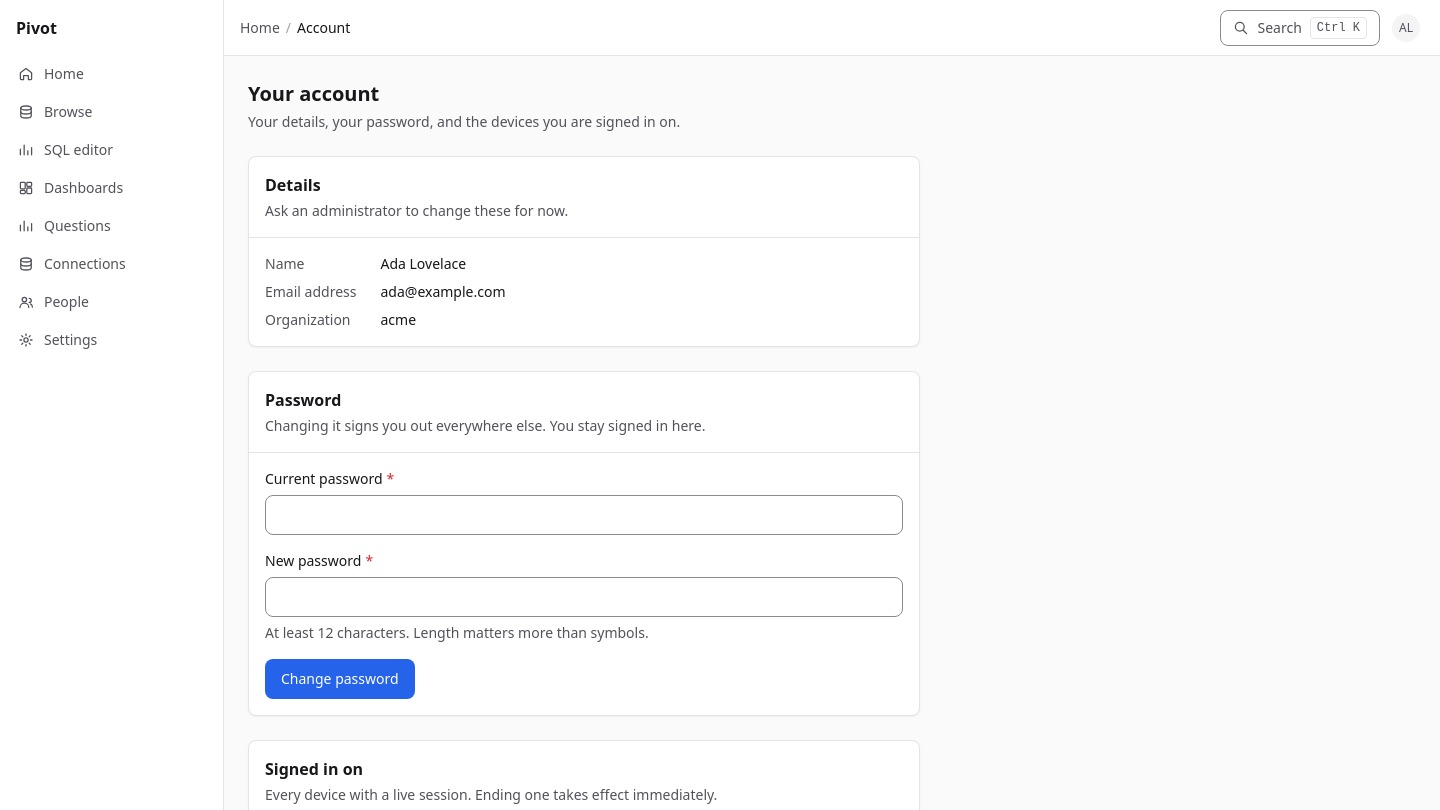
Test: changing your password › a password that is too short names the field
Type "current-password-here" into the password field labelled "Current password*" at (584,515), box top-left (265, 495), bottom-right (903, 535)
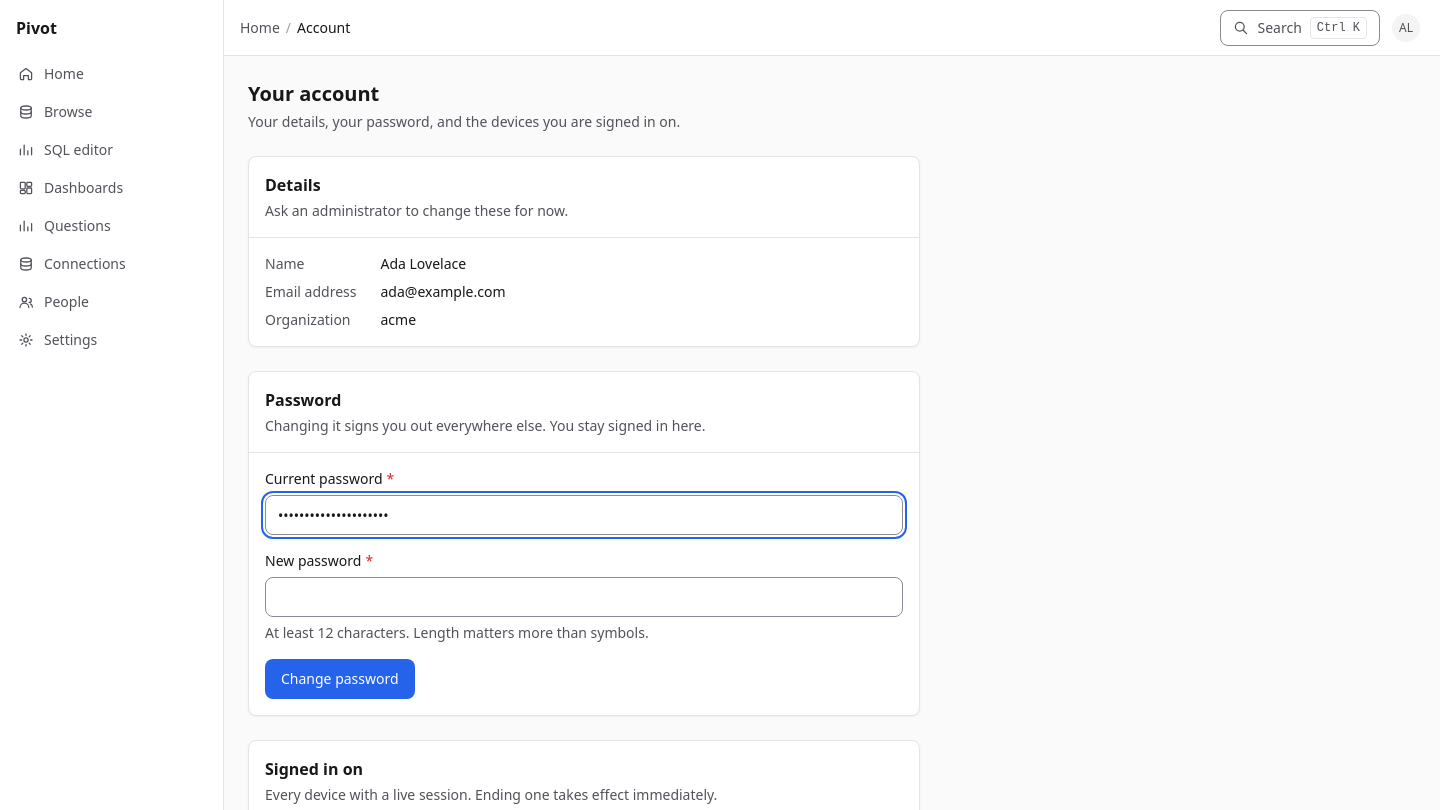
Type "short" into the password field labelled "New password*" at (584,597), box top-left (265, 577), bottom-right (903, 617)
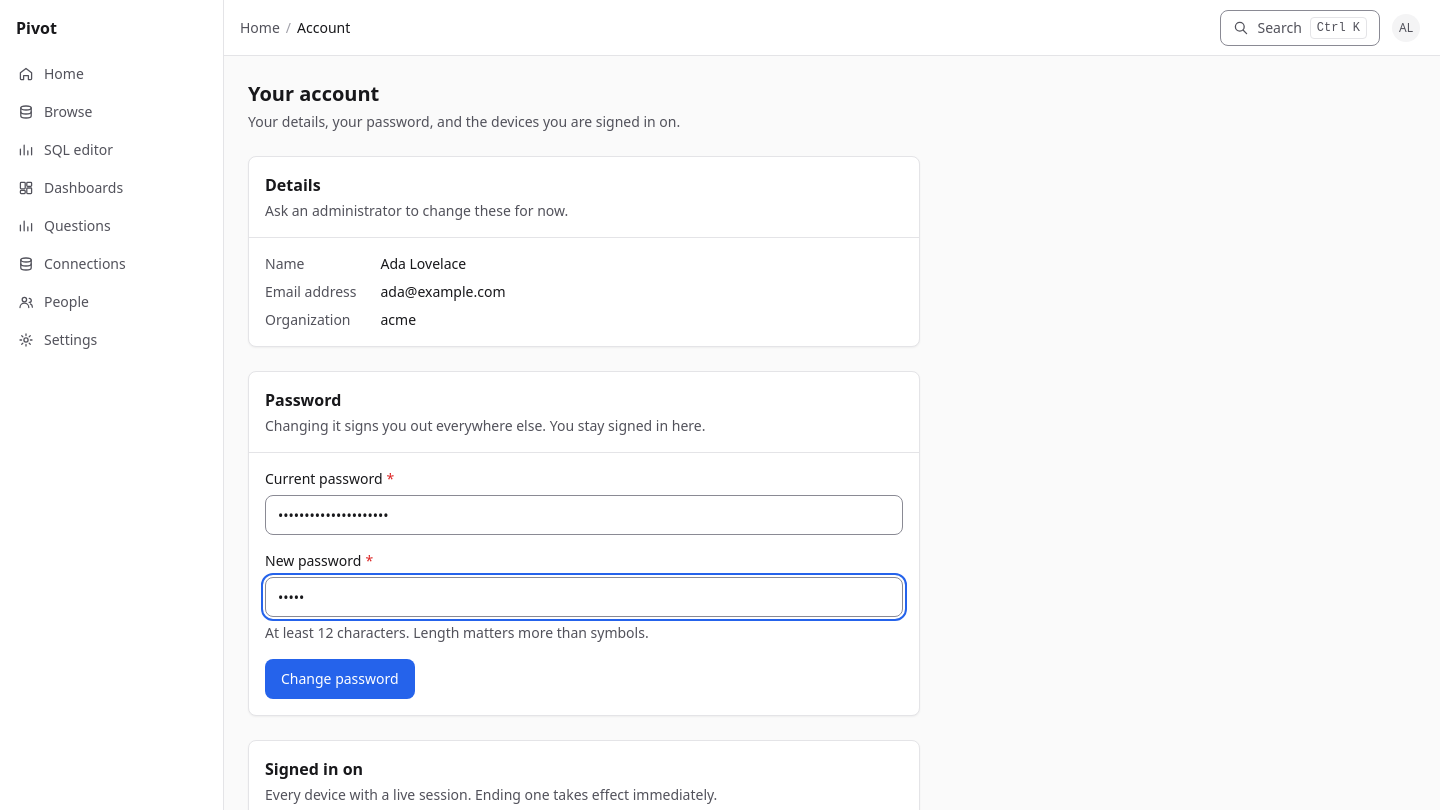
Click the button "Change password" at (340,679), box top-left (265, 659), bottom-right (415, 699)
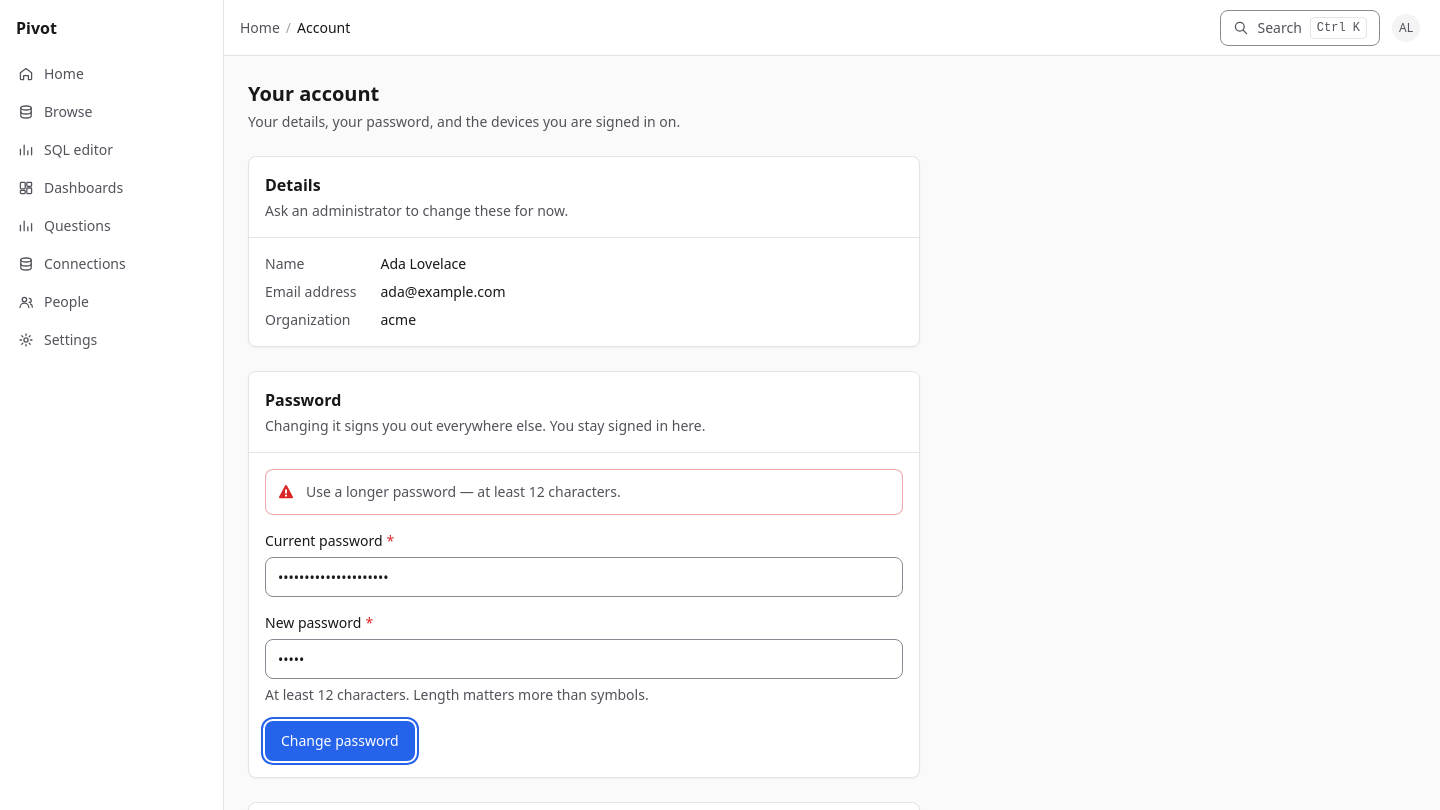
Now the text "Use a longer password — at least 12 characters." is shown, box top-left (306, 482), bottom-right (621, 501)
